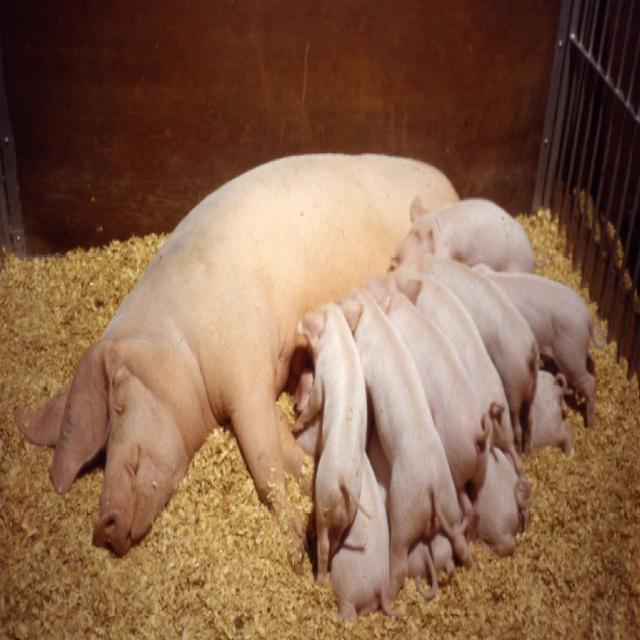Pig: (10, 154, 607, 626)
